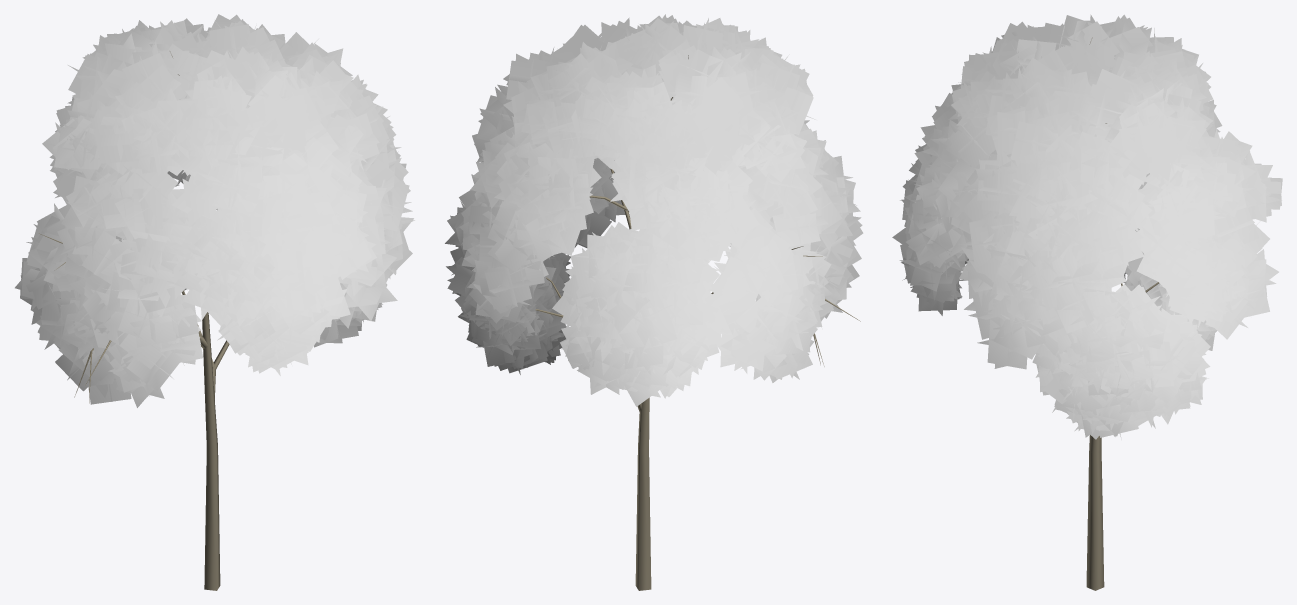
File: NormalTree_LOD0.fbx
The picture shows the model from 3 angles, left to right: view 1: azimuth 30°, elevation 25°; view 2: azimuth 150°, elevation 25°; view 3: azimuth 270°, elevation 25°; orthographic projection. The views are drawn at different scales.
Visible parts, largest first — view 1: Leaf_LOD0, Trunk_LOD0; view 2: Leaf_LOD0, Trunk_LOD0; view 3: Leaf_LOD0, Trunk_LOD0.
Boxes of the visible parts, left/top/right/bottom form: Leaf_LOD0: left=15, top=14, right=414, bottom=407; Trunk_LOD0: left=39, top=51, right=229, bottom=590; Leaf_LOD0: left=445, top=14, right=863, bottom=406; Trunk_LOD0: left=535, top=55, right=860, bottom=590; Leaf_LOD0: left=892, top=14, right=1282, bottom=439; Trunk_LOD0: left=1086, top=37, right=1158, bottom=590.
Bounding box in the file's own units: 895 × 1341 × 879.
